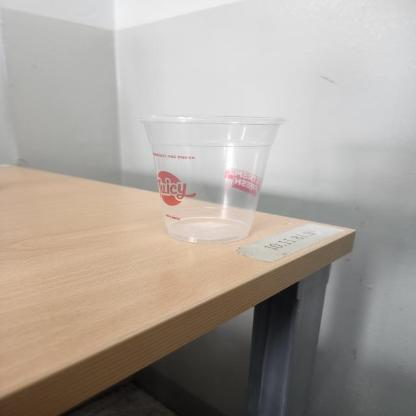Plastic Cup: (139, 112, 289, 242)
